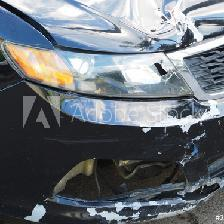broken_part: (82, 55, 176, 88)
dent: (108, 0, 210, 43)
scrach: (29, 203, 48, 218)
